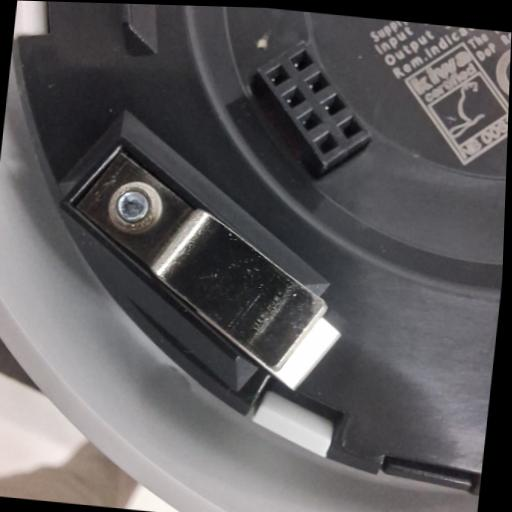yayli: (47, 142, 346, 388)
